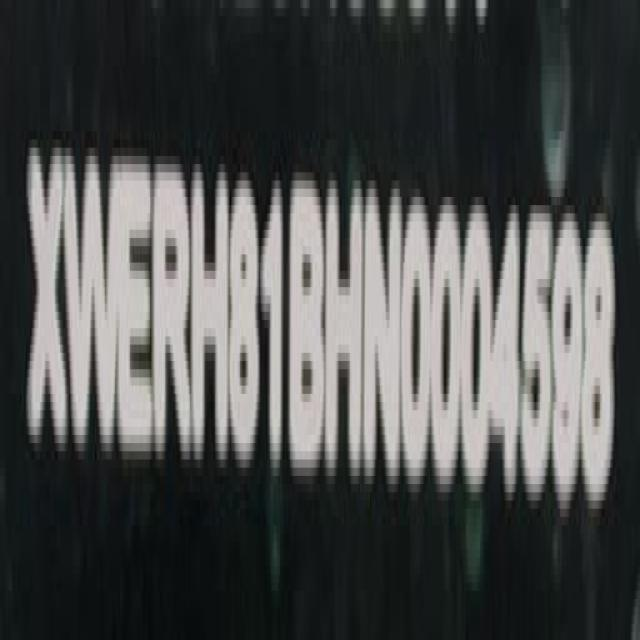0: (458, 192, 490, 500), (402, 185, 434, 490), (431, 192, 462, 493)
1: (262, 167, 290, 481)
4: (490, 194, 521, 502)
5: (521, 198, 554, 508)
8: (584, 214, 618, 508), (229, 164, 260, 475)
9: (548, 208, 582, 511)
B: (292, 166, 327, 482)
E: (116, 156, 159, 469)
H: (326, 170, 366, 488), (193, 163, 231, 472)
M: (364, 174, 404, 489)
R: (155, 158, 193, 474)
W: (65, 146, 121, 467)
X: (26, 139, 72, 463)
